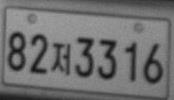1: (122, 41, 142, 81)
2: (30, 33, 48, 73)
3: (97, 39, 117, 79), (75, 37, 94, 77)
6: (143, 43, 164, 84)
8: (7, 31, 26, 71)
저: (51, 42, 70, 76)
